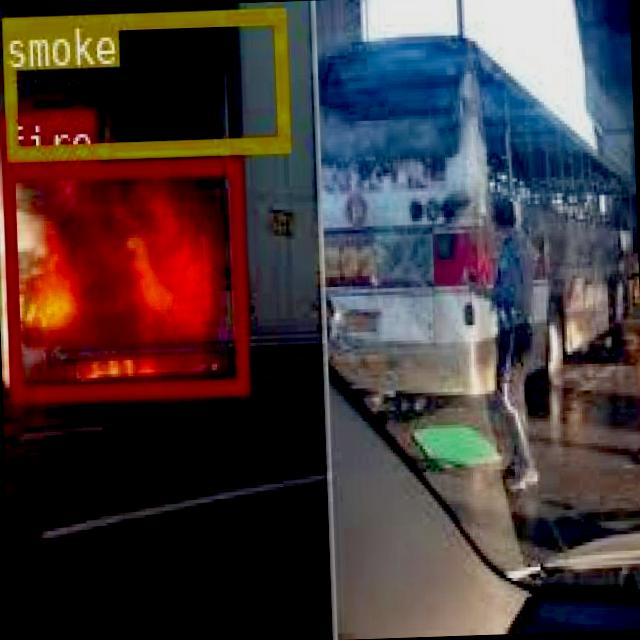fire: (0, 155, 245, 400)
smoke: (1, 5, 288, 158)
